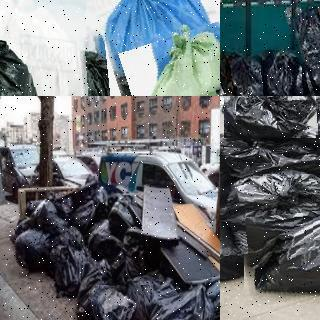Garbage: (91, 0, 220, 96), (220, 164, 320, 253), (0, 0, 88, 96), (102, 33, 220, 96), (23, 34, 142, 96), (241, 205, 320, 298), (223, 96, 317, 139), (220, 208, 253, 284), (292, 7, 320, 96), (75, 258, 113, 320), (93, 283, 154, 320), (49, 244, 91, 297), (224, 55, 271, 96), (262, 49, 302, 96), (11, 228, 51, 273), (220, 124, 234, 219), (206, 277, 220, 320)
